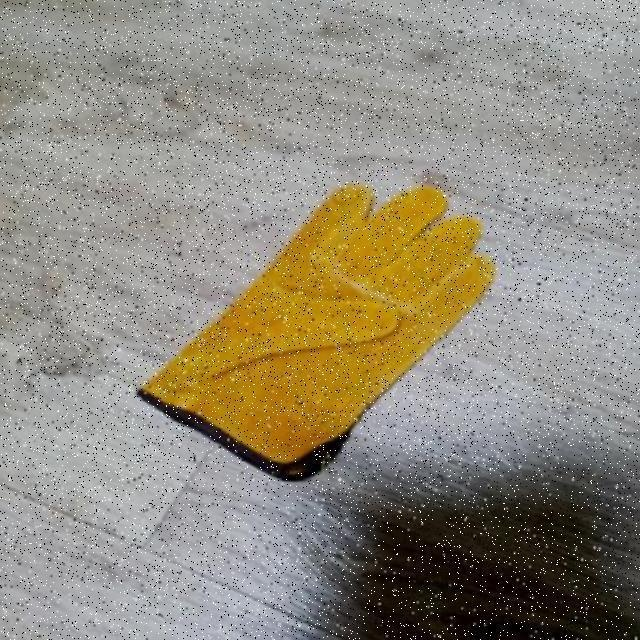Guantes: (136, 180, 497, 481)
